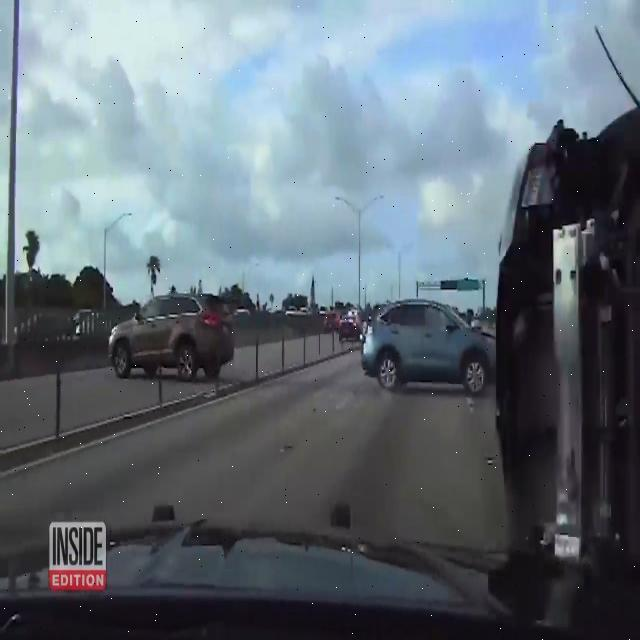accident: (495, 125, 640, 566)
